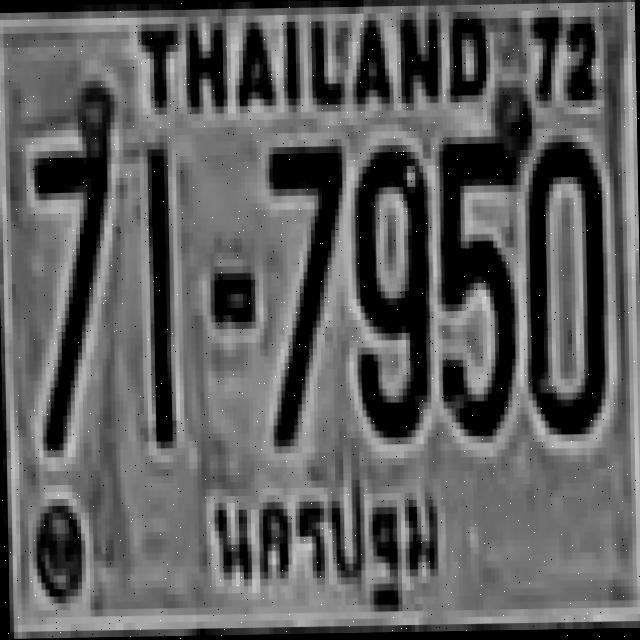0: (524, 134, 602, 428)
1: (142, 142, 172, 441)
5: (434, 125, 524, 432)
7: (29, 112, 116, 447), (264, 139, 342, 439), (264, 136, 342, 402)
9: (350, 137, 428, 430)
NakhonPathom: (197, 464, 464, 626)
